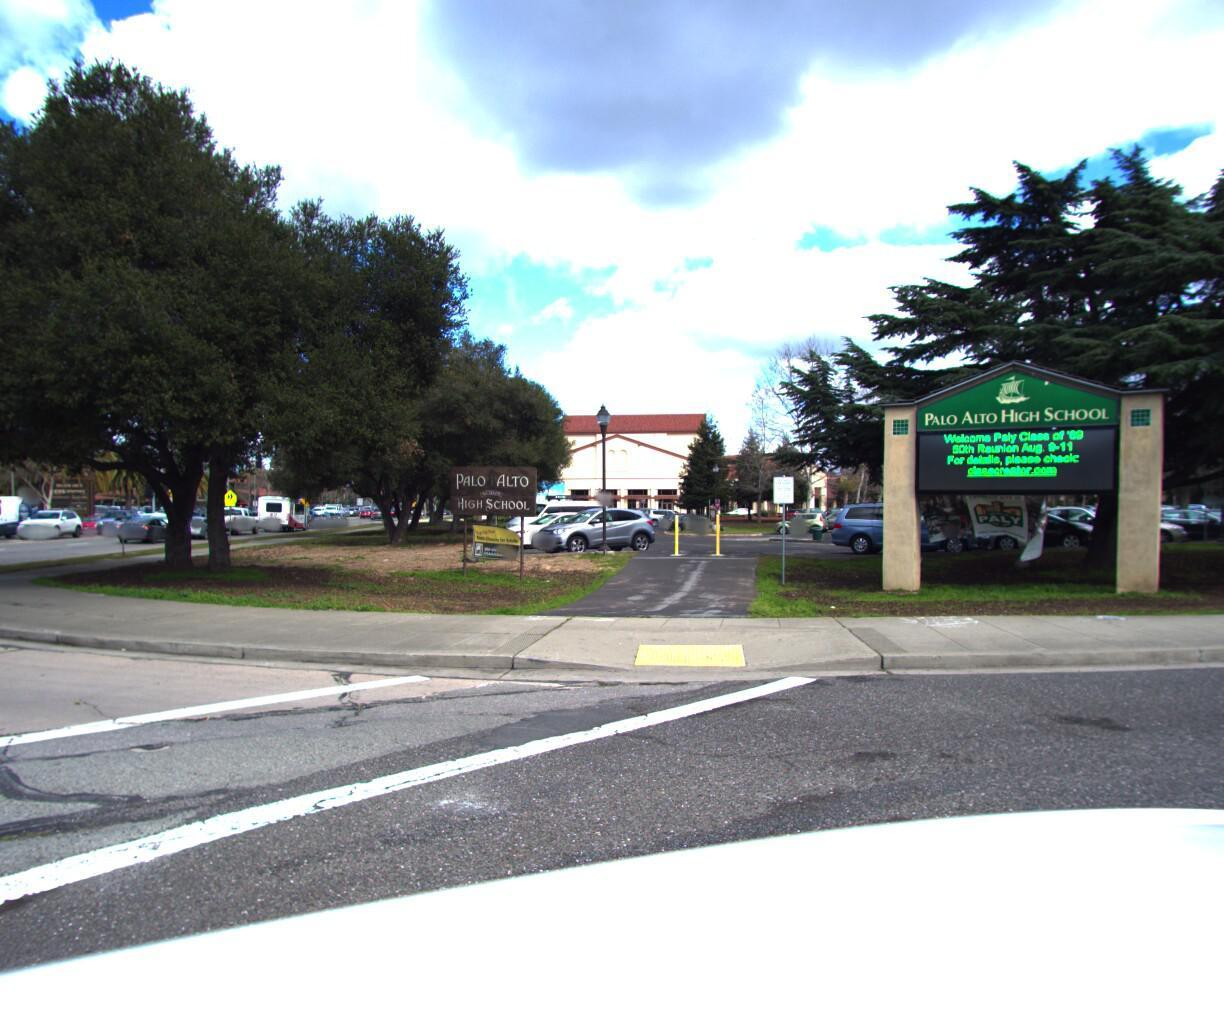bus: (257, 497, 310, 535)
car: (15, 510, 89, 544), (116, 520, 181, 549), (71, 515, 130, 544), (205, 511, 263, 540), (95, 510, 147, 538), (174, 520, 227, 546), (0, 496, 38, 533), (105, 520, 154, 540), (314, 516, 338, 531)
